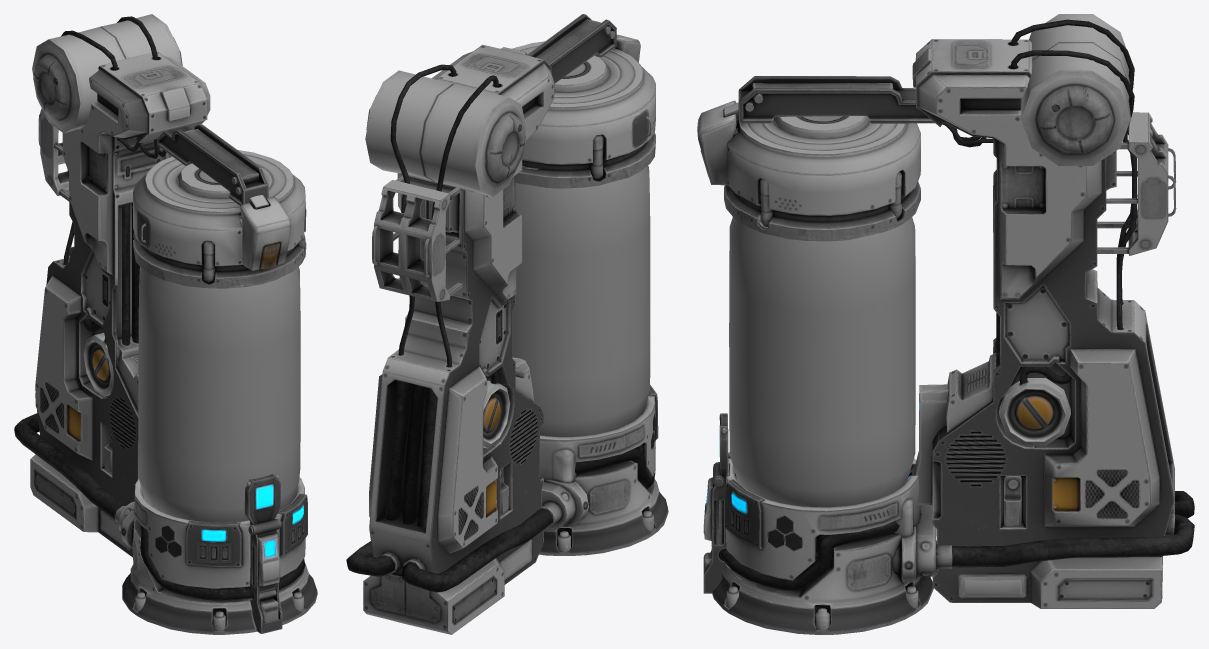
The model's file is kapsül_1.fbx.
The picture shows the model from 3 angles, left to right: view 1: azimuth 30°, elevation 25°; view 2: azimuth 150°, elevation 25°; view 3: azimuth 270°, elevation 25°; orthographic projection. The views are drawn at different scales.
Visible parts, largest first — view 1: Capsule; view 2: Capsule; view 3: Capsule.
Boxes of the visible parts, <box> form: Capsule: <box>14,14,317,634</box>; Capsule: <box>346,14,668,634</box>; Capsule: <box>697,14,1194,634</box>.
Size of the model in its own units: 1812 by 4958 by 4042.
Materials: 1 (1 with a texture image).
